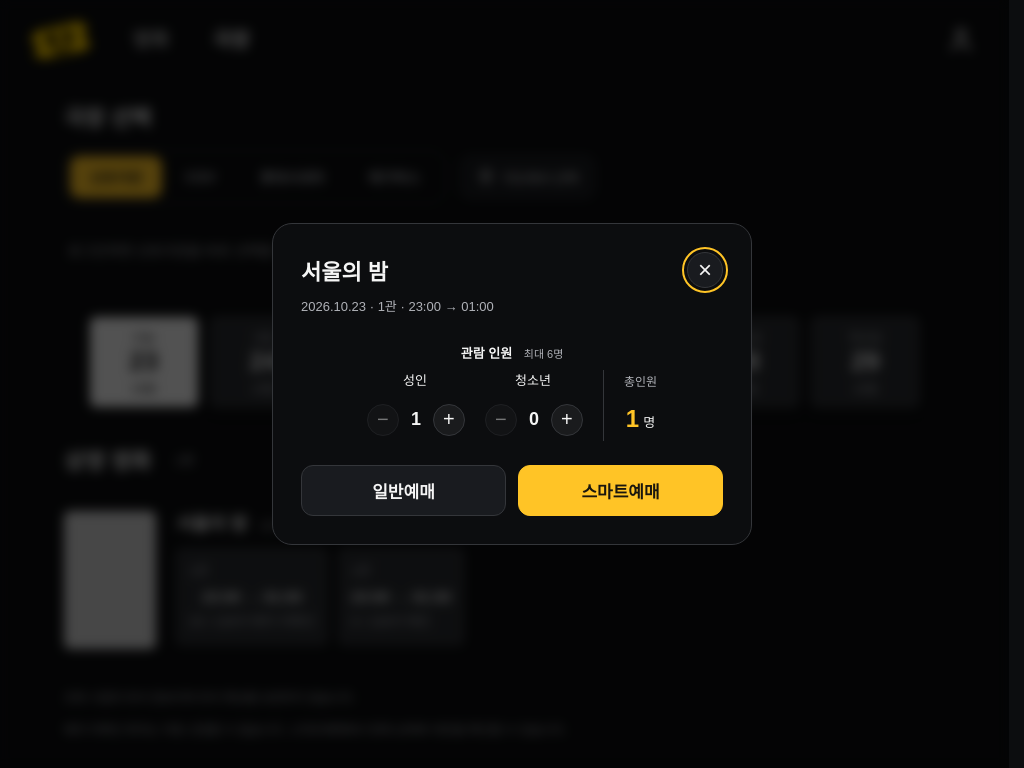
sold out and unknown layouts have distinct button behavior
Check: the button "1관 23:00 → 01:00 20 / 108석 배치 미확인" is shown, box [176,549,328,645]
Check: the button "1관 23:00 → 01:00 0 / 108석 매진" is shown, box [338,549,464,645]
Click the button named "예매 방식 선택 닫기" at (705, 270), box [687,252,723,288]
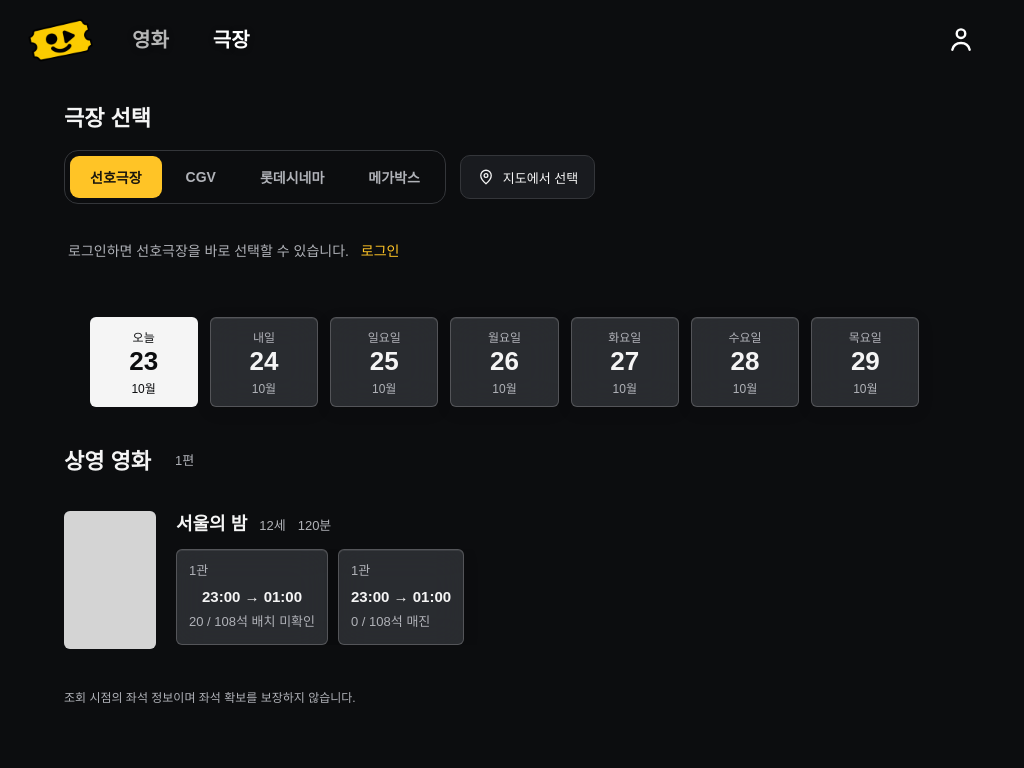
Click the button "1관 23:00 → 01:00 0 / 108석 매진" at (401, 597), box [338,549,464,645]
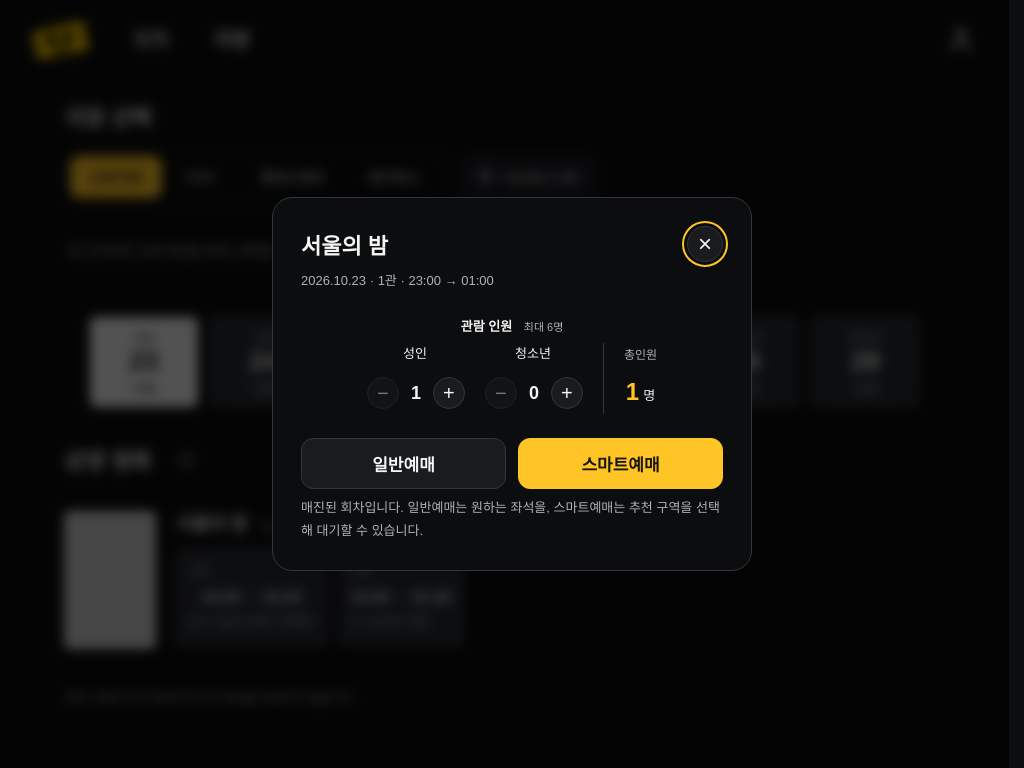
Check: the button "일반예매" is enabled, box [301,438,506,490]
